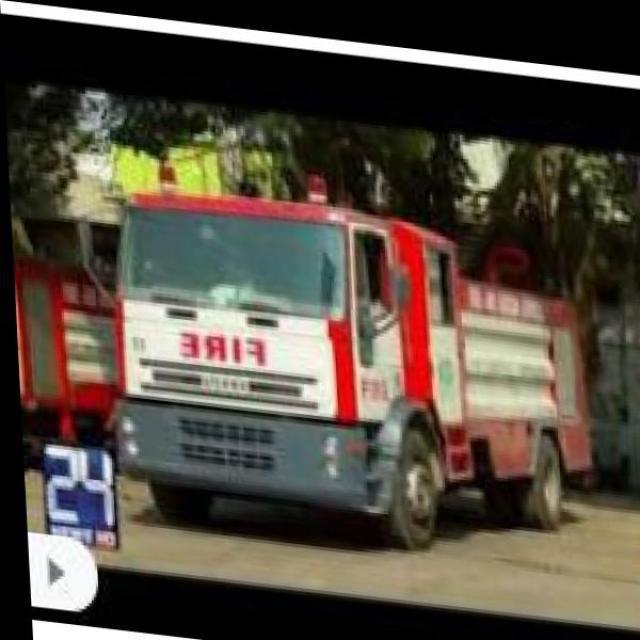emergency: (111, 166, 599, 550)
